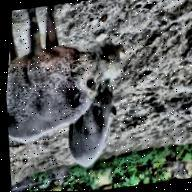boar: (3, 10, 138, 150), (65, 70, 141, 173)
